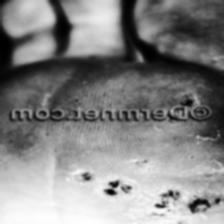Toxin: (63, 166, 224, 224), (178, 96, 202, 108)
